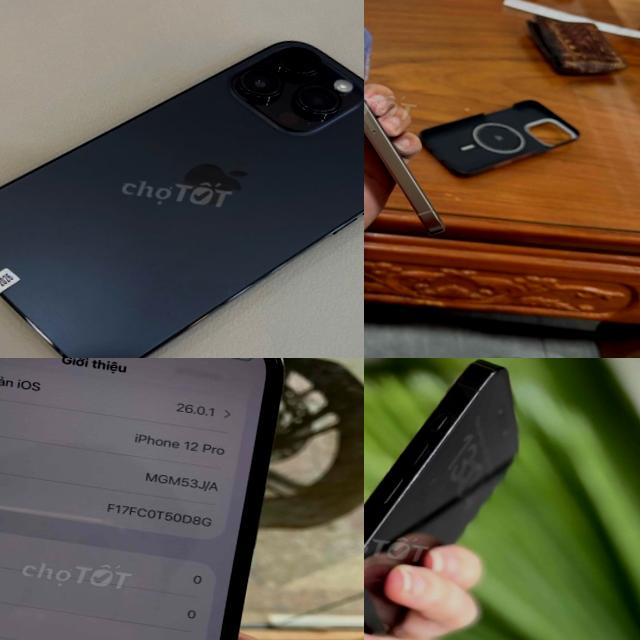gen_12_13: (0, 358, 296, 640)
gen_14: (0, 0, 364, 358), (364, 358, 540, 640)
gen_16: (364, 98, 445, 235)
